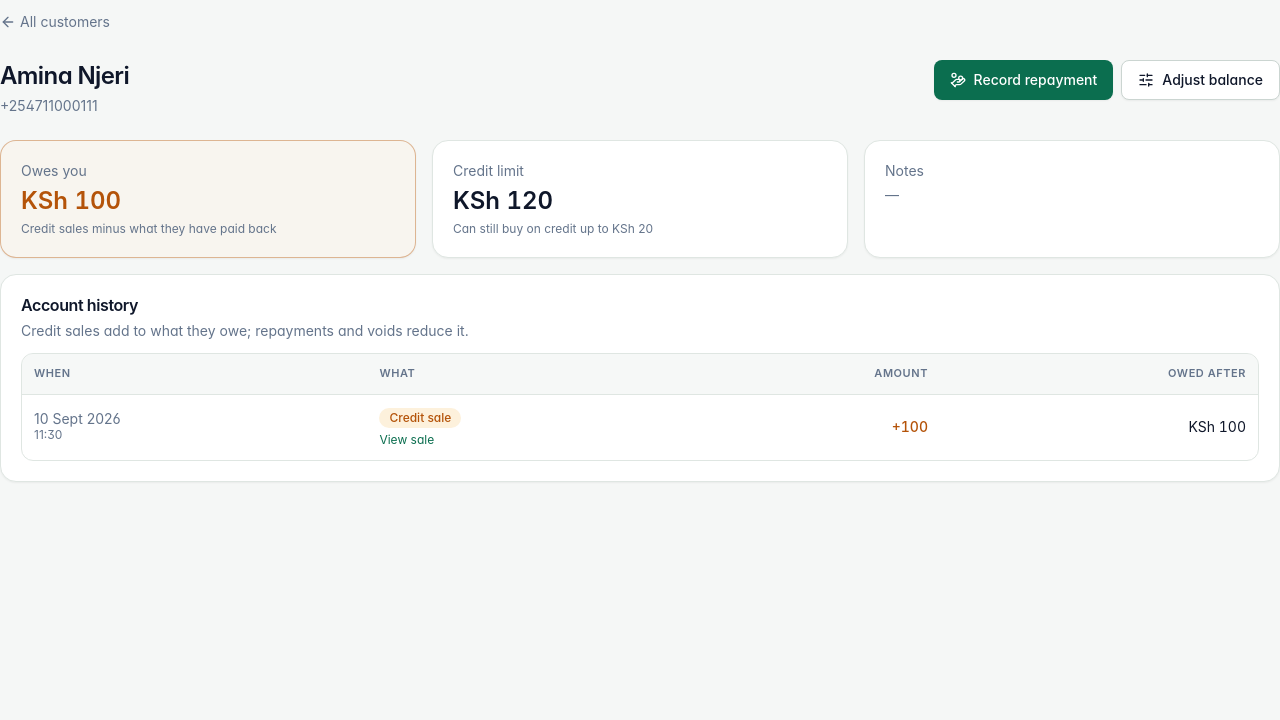
Test: CustomerDetailPage › records a repayment with an idempotency key and handles overpayment
The image size is (1280, 720).
Expected: the text "Owes you" is shown, [21,162,87,179]
Expected: the text "Credit sale" is shown, [379,408,461,428]
Click the button "Record repayment". click: (1023, 80)
box: [934,60,1113,100]
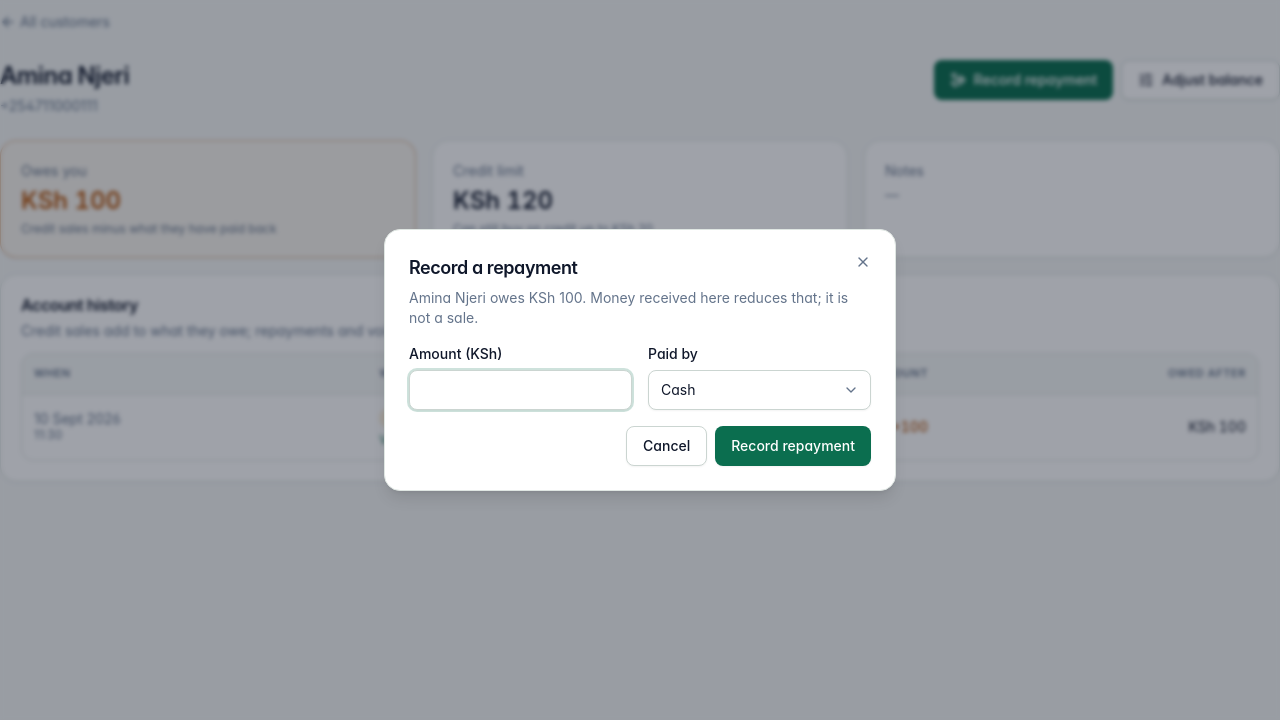
Type "150" into the field labelled "Amount (KSh)". click: (520, 390)
box: [409,370,632,410]
Select "M-Pesa" in the dropdown labelled "Paid by". click: (760, 390)
box: [648,370,871,410]
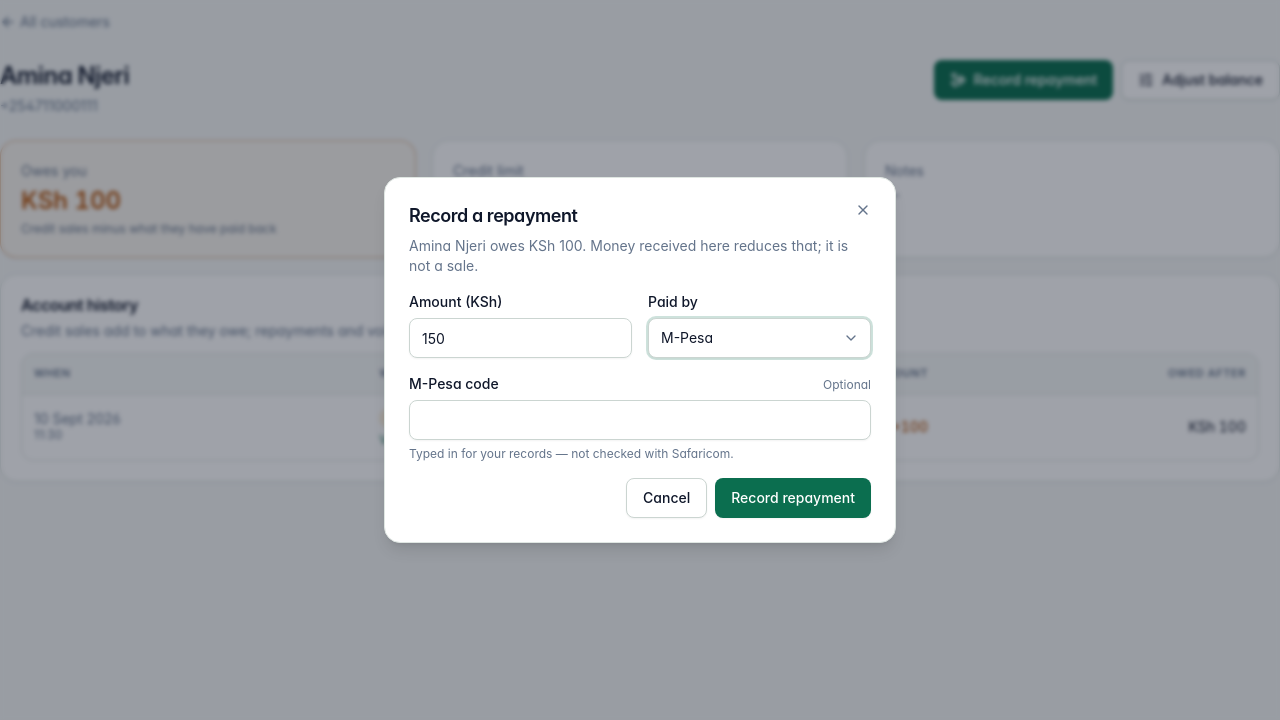
Type "ABC123" into the field labelled "M-Pesa code Optional". click: (640, 420)
box: [409,400,871,440]
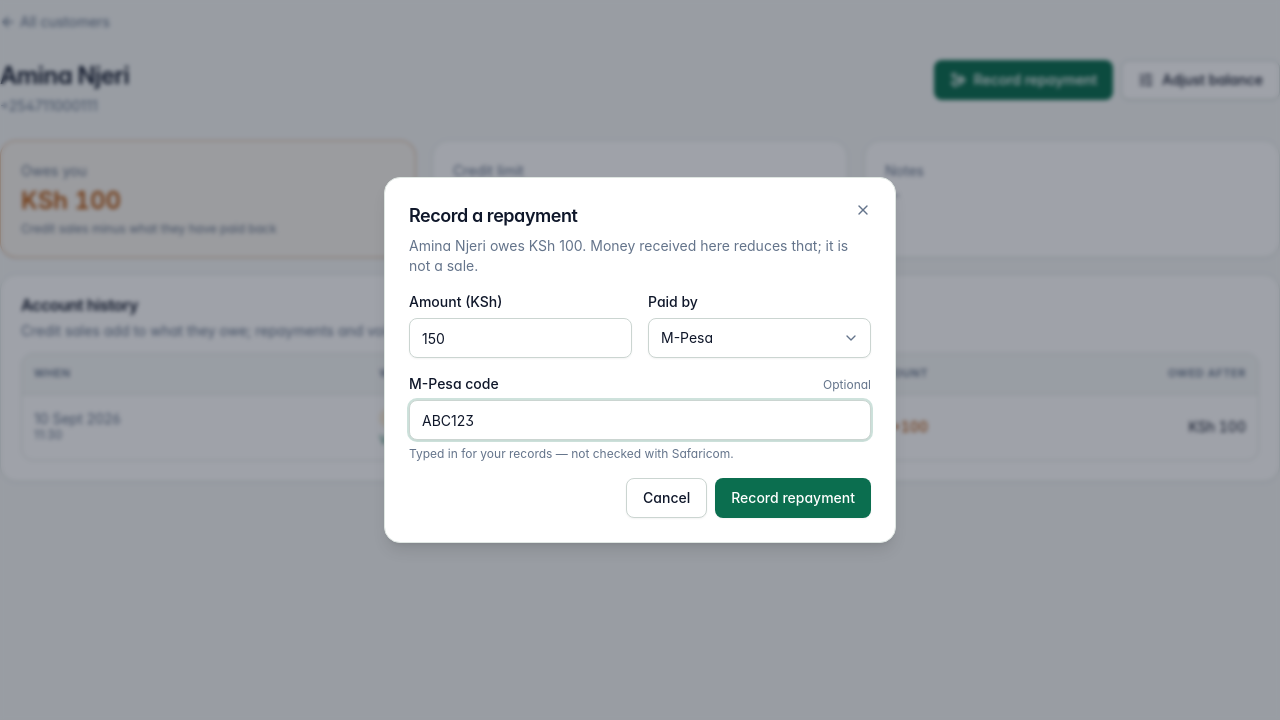
Click the button "Record repayment". click: (793, 498)
box: [715,478,871,518]
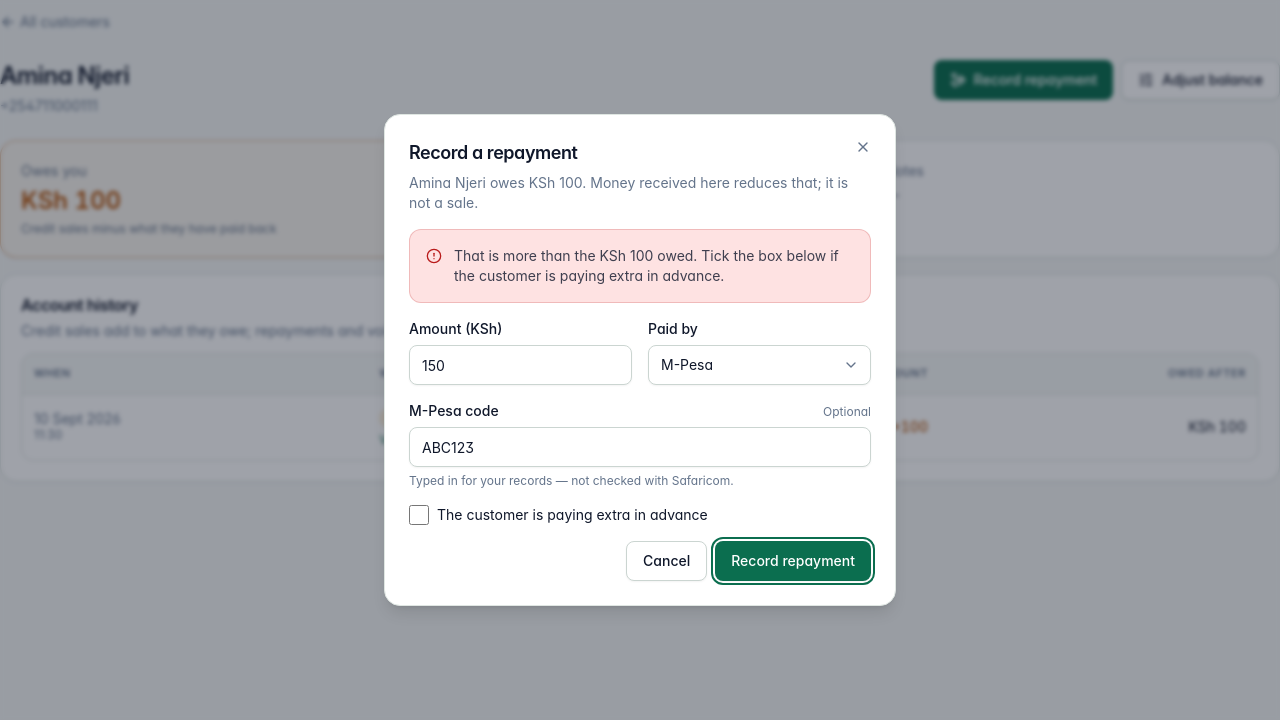
Now the message shows "more than the KSh 100 owed", box [454,247,839,284]
Click the checkbox labelled "The customer is paying extra in advance". click: (419, 515)
box: [409,505,429,525]
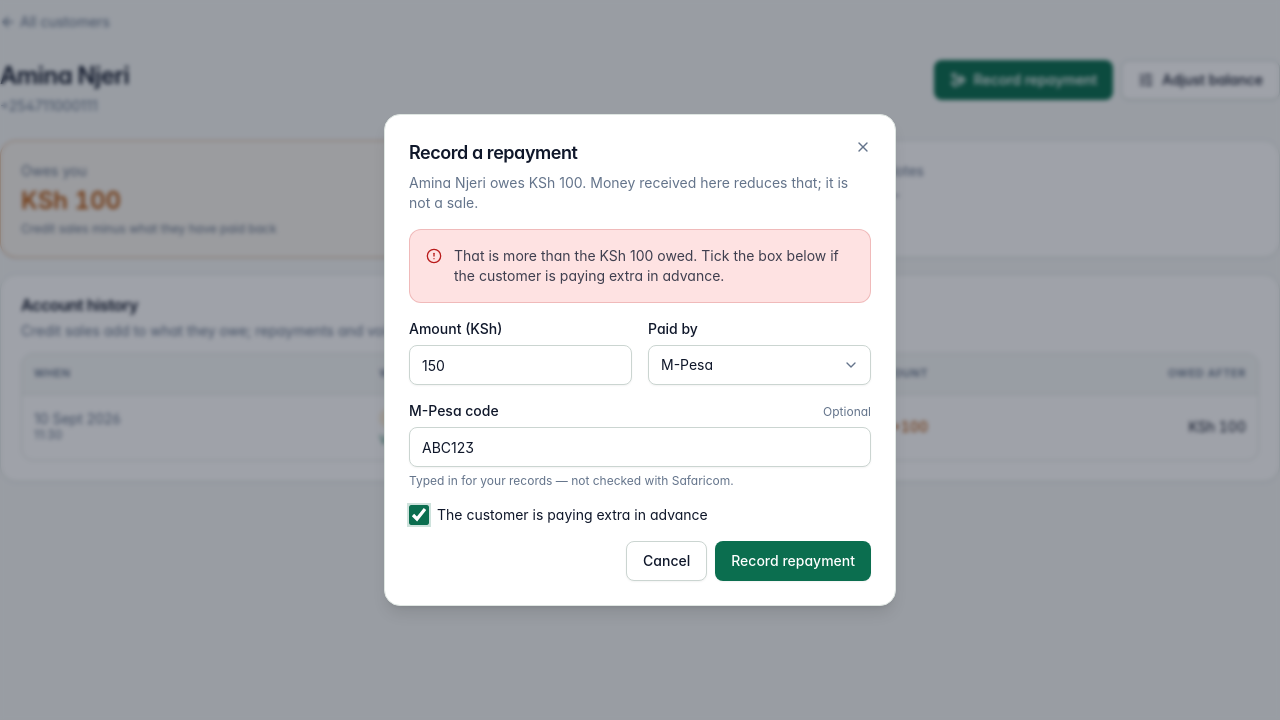
Click the button "Record repayment". click: (793, 561)
box: [715,541,871,581]
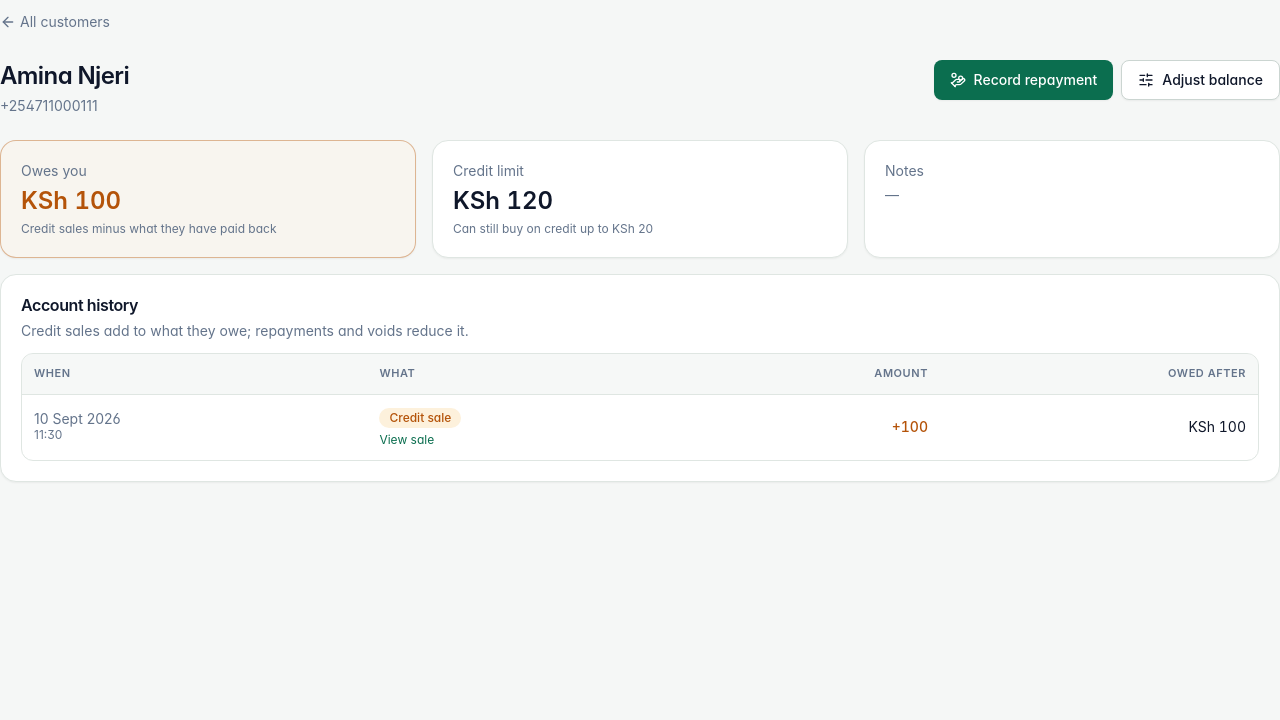
Now the dialog is gone
